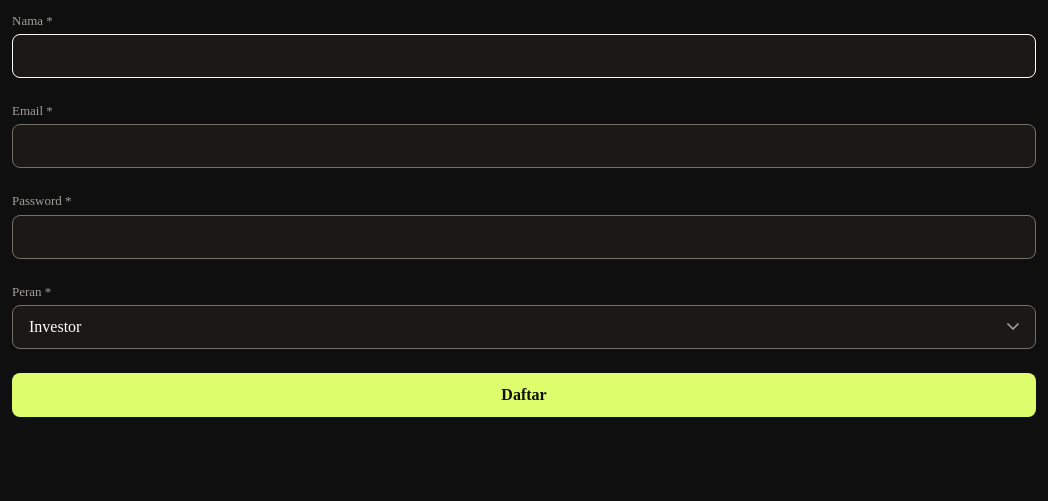
Test: sign up form › keeps the created account and shows the login error when auto sign in fails after sign up
Type "Budi Santoso" into the field labelled "Nama *" at (524, 56), box [12,34,1036,78]
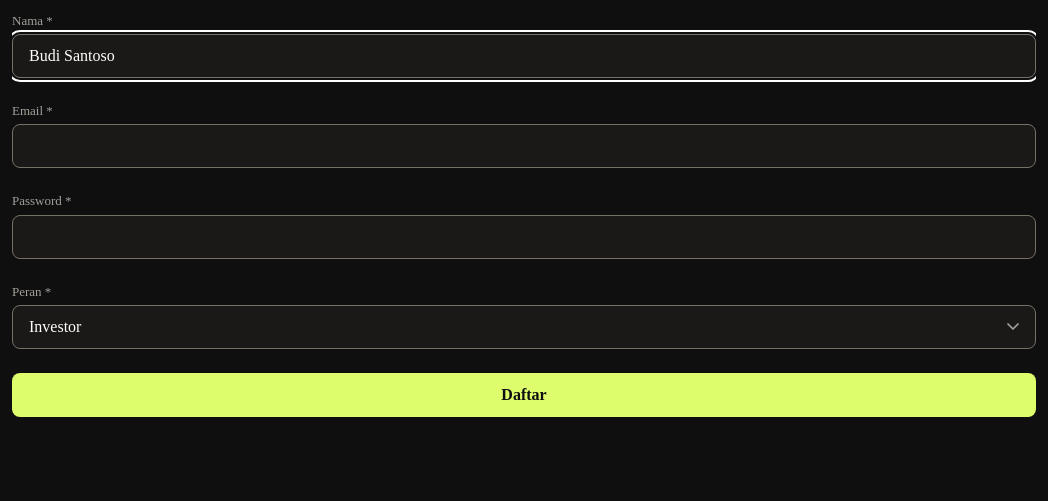
Type "budi@contoh.id" into the field labelled "Email *" at (524, 146), box [12,124,1036,168]
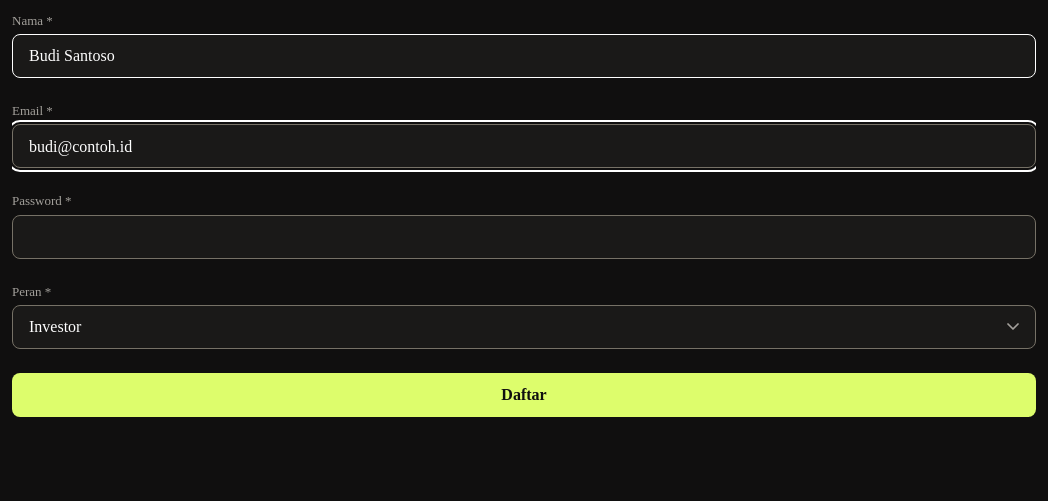
Type "rahasia123" into the password field labelled "Password *" at (524, 237), box [12,215,1036,259]
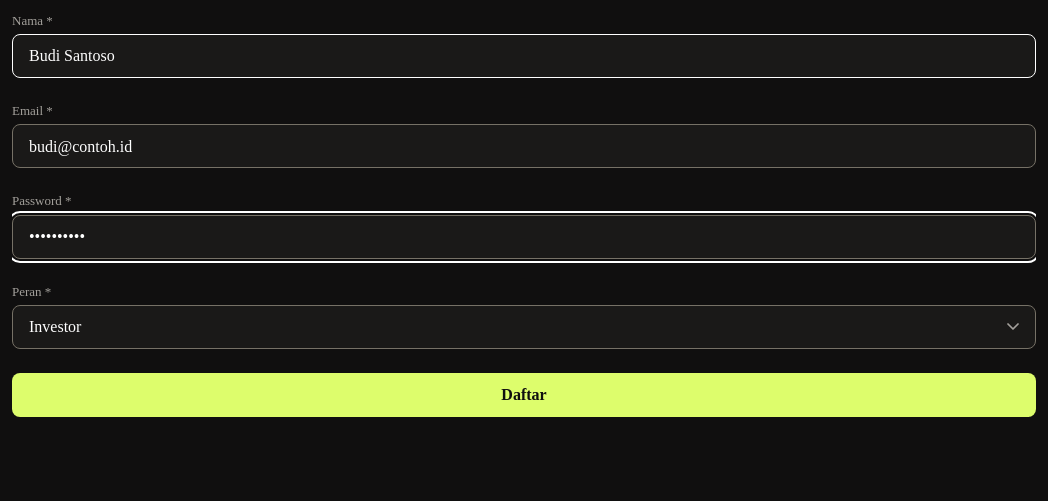
Click the button "Daftar" at (524, 395), box [12,373,1036,417]
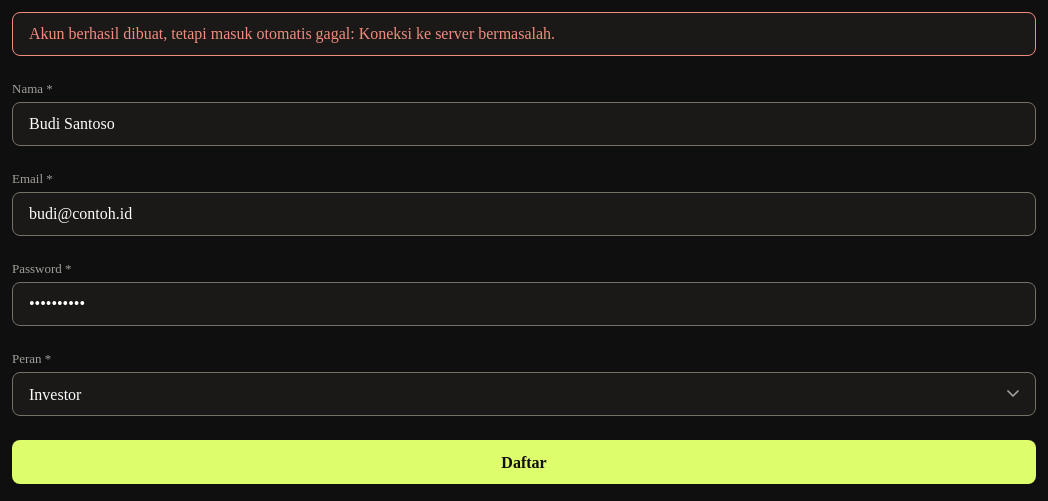
expect the message shows "Koneksi ke server bermasalah": met, box [29,25,555,42]
